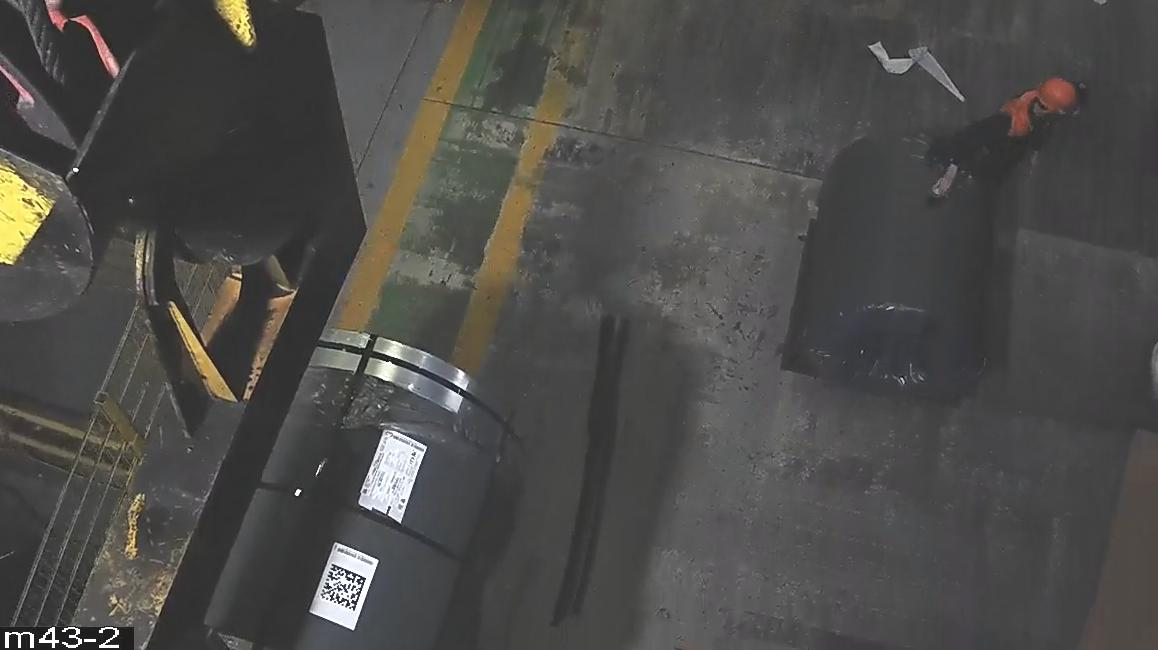data matrix: (320, 563, 369, 613)
